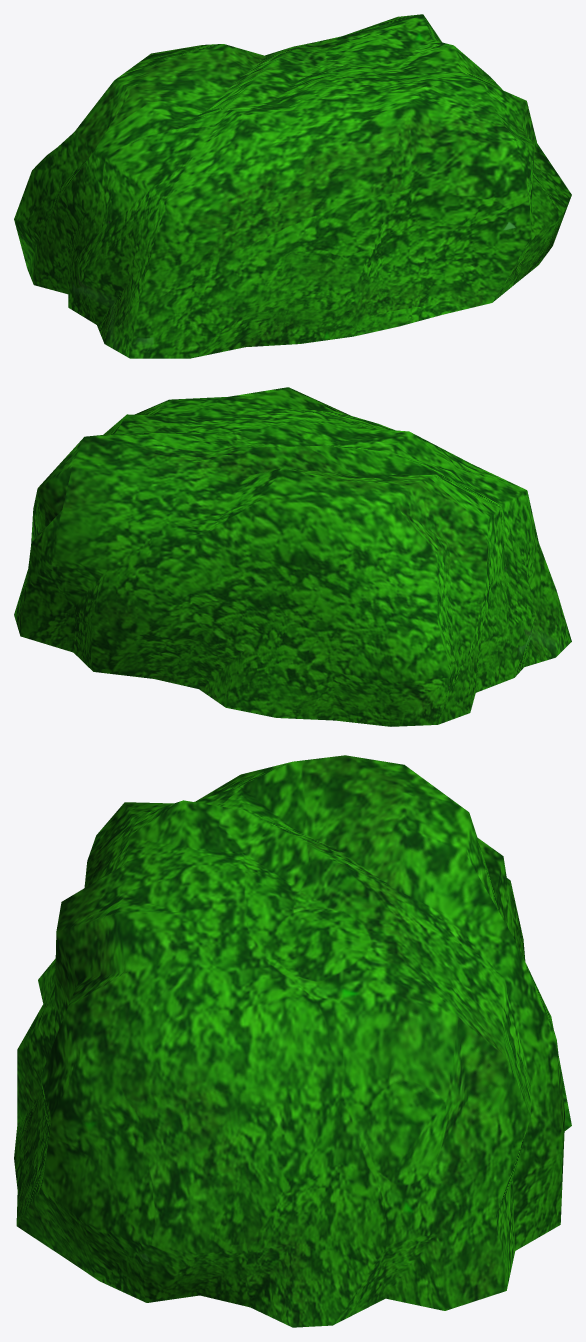
The model's file is bush_0001.fbx.
3 renders of one model, top to bottom at view 1: azimuth 30°, elevation 25°; view 2: azimuth 150°, elevation 25°; view 3: azimuth 270°, elevation 25°, orthographic. The views are drawn at different scales.
Parts seen in each view (by area): view 1: Bush_0001; view 2: Bush_0001; view 3: Bush_0001.
Part boxes in pixels (<box>): Bush_0001: <box>14,14,571,358</box>; Bush_0001: <box>14,387,571,726</box>; Bush_0001: <box>14,755,571,1327</box>.
Bounding box in the file's own units: 11.44 × 4.86 × 7.99.
